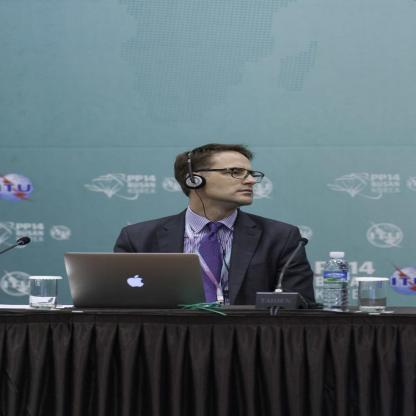board: (66, 252, 220, 320), (324, 250, 351, 314)
